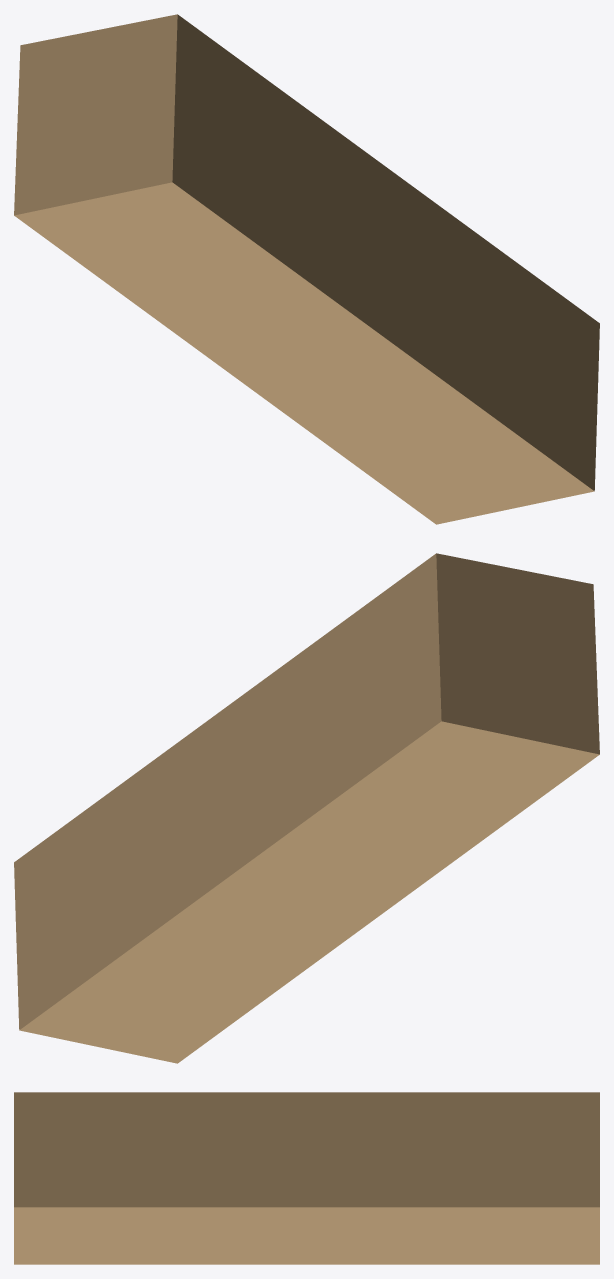
The picture shows the model from 3 angles, top to bottom: view 1: azimuth 30°, elevation 25°; view 2: azimuth 150°, elevation 25°; view 3: azimuth 270°, elevation 25°; orthographic projection. The views are drawn at different scales.
Parts seen in each view (by area): view 1: 0_3_2_0_1_0_3_1_1_1_2; view 2: 0_3_2_0_1_0_3_1_1_1_2; view 3: 0_3_2_0_1_0_3_1_1_1_2.
Part boxes in pixels (bbox=[...]): 0_3_2_0_1_0_3_1_1_1_2: bbox=[14, 14, 599, 524]; 0_3_2_0_1_0_3_1_1_1_2: bbox=[14, 553, 599, 1063]; 0_3_2_0_1_0_3_1_1_1_2: bbox=[14, 1092, 599, 1264].
Bounding box in the file's own units: 6.71 × 6.82 × 30.
